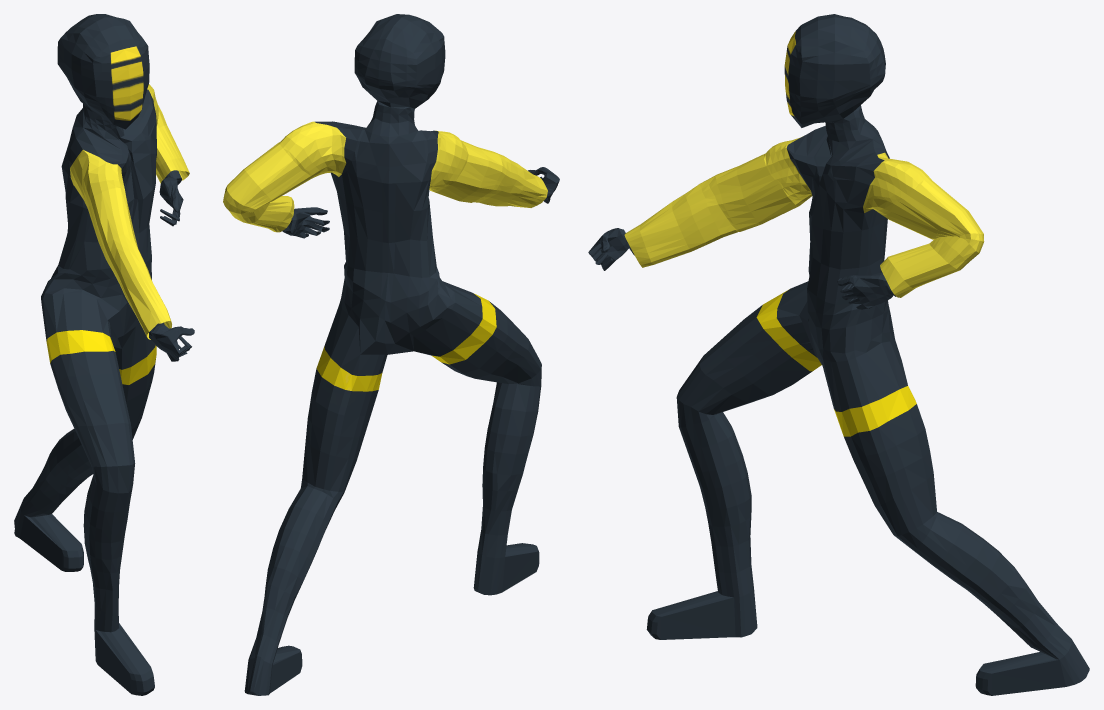
The model's file is Sentry_WL_000026.obj.
3 views of the same model, side by side, from view 1: azimuth 30°, elevation 25°; view 2: azimuth 150°, elevation 25°; view 3: azimuth 270°, elevation 25° (orthographic). The views are drawn at different scales.
Visible parts, largest first — view 1: Cube; view 2: Cube; view 3: Cube.
Boxes of the visible parts, x1,y1,x2,y2 form: Cube: [14, 14, 194, 695]; Cube: [223, 14, 559, 695]; Cube: [588, 14, 1089, 695].
Size of the model in its own units: 1.19 by 3.61 by 2.51.
